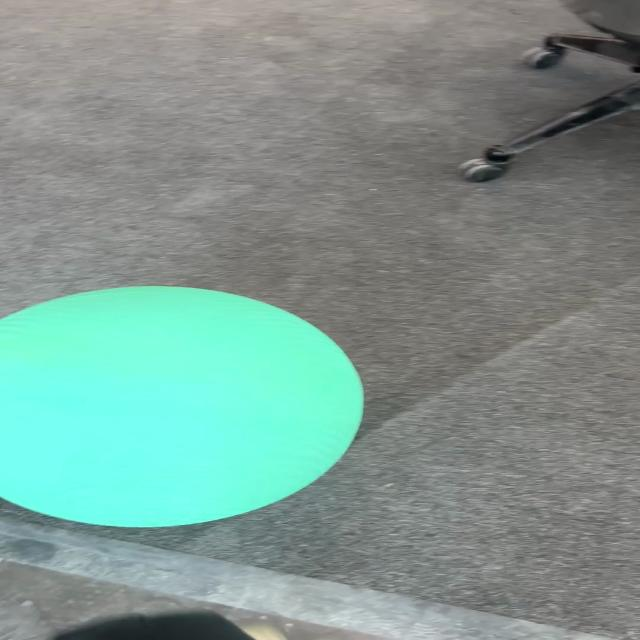Algae: (1, 284, 366, 528)
